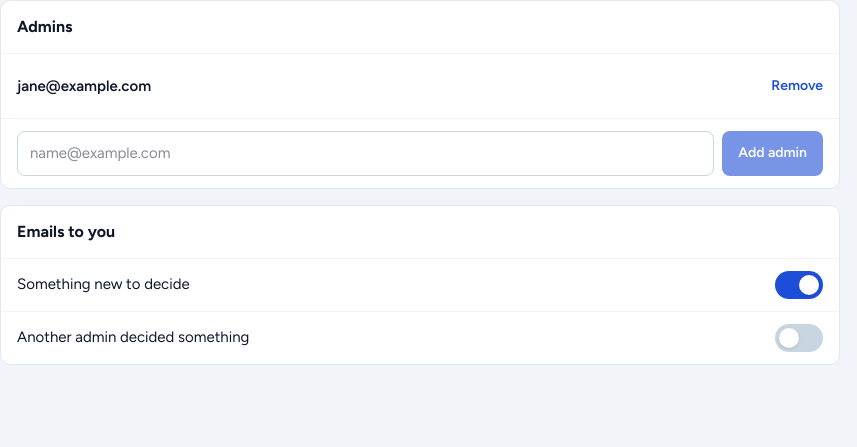
TeamManager › POSTs the typed email, scoped to the active community, and adds it to the list
Type "sam@example.com" into the field named "Email" at [366, 153], box 17,131 -> 714,176
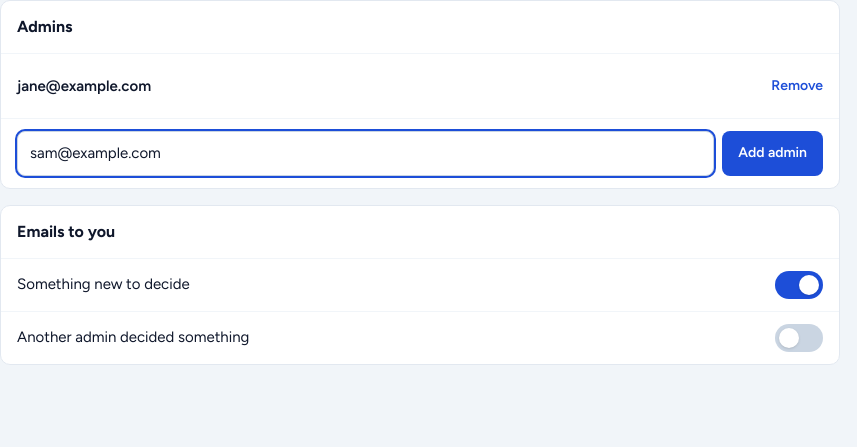
Click the button "Add admin" at [773, 153], box 722,131 -> 823,176
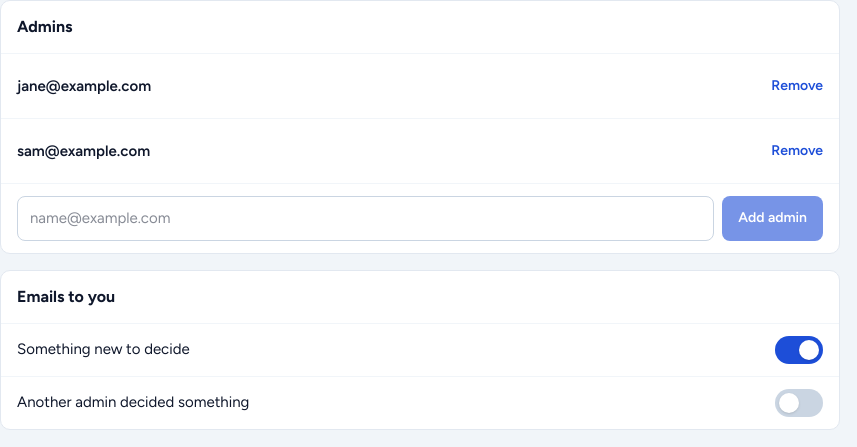
Now the text "sam@example.com" is shown, box 17,142 -> 150,160
Now the field named "Email" is empty, box 17,196 -> 714,240
